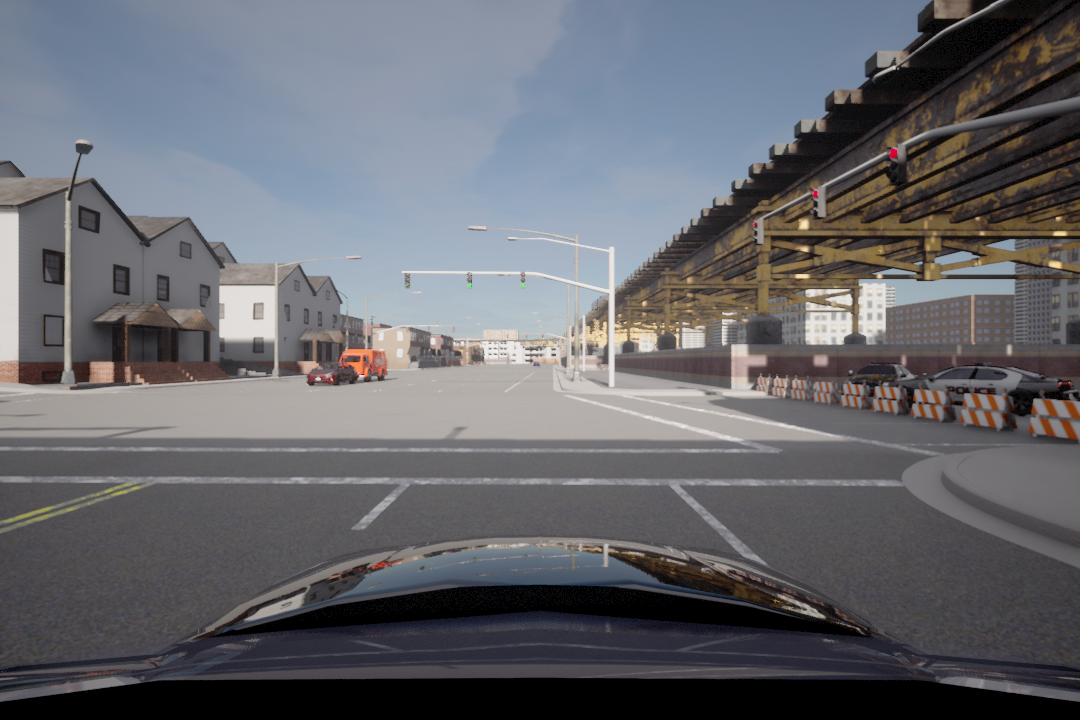TrafficLight: (884, 144, 911, 191), (807, 183, 828, 221), (751, 217, 767, 247), (519, 267, 529, 290), (403, 273, 413, 294), (465, 271, 474, 291)
